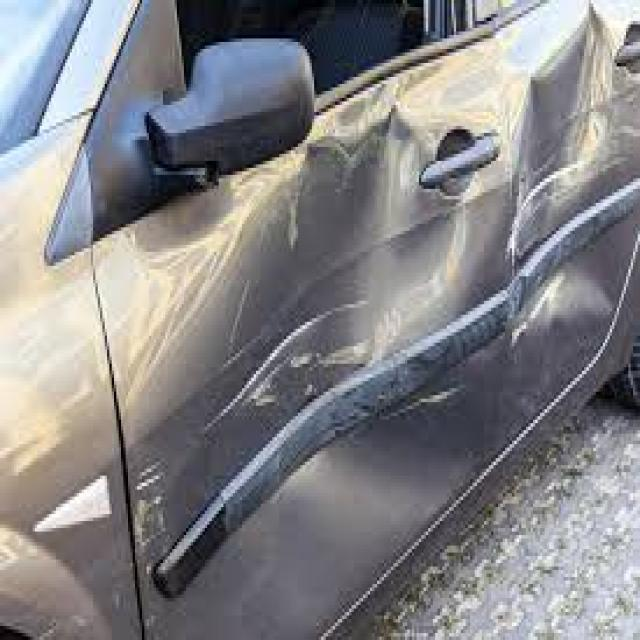moderate: (134, 58, 619, 620)
